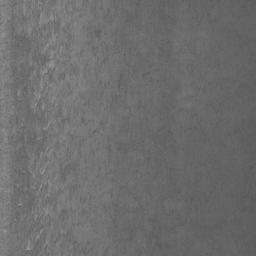Silk spot: (0, 0, 228, 256), (190, 0, 220, 28), (181, 111, 209, 141)
